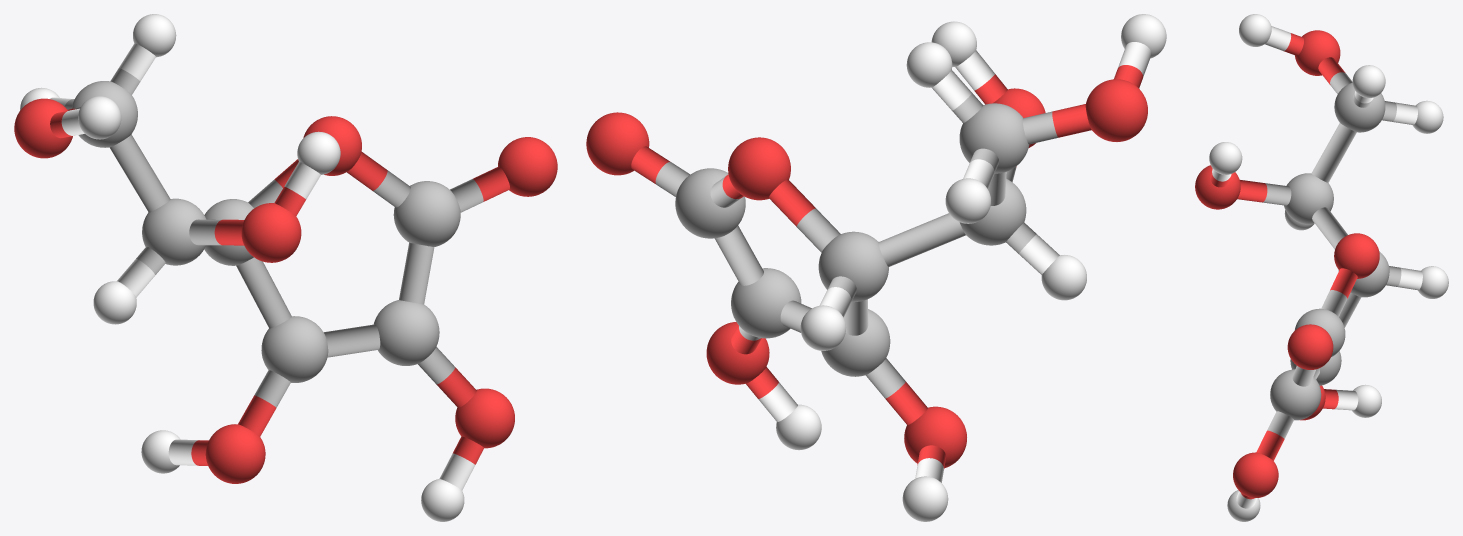
The model's file is vitamin_c.glb.
3 views of the same model, side by side, from view 1: azimuth 30°, elevation 25°; view 2: azimuth 150°, elevation 25°; view 3: azimuth 270°, elevation 25° (orthographic). The views are drawn at different scales.
Parts seen in each view (by area): view 1: Object_3, Object_4, Object_6, Object_5, Object_7; view 2: Object_3, Object_4, Object_6, Object_5, Object_7; view 3: Object_3, Object_4, Object_6, Object_5, Object_7.
Part boxes in pixels (box(x1,y1,x2,y2)): Object_3: box(64, 68, 483, 407); Object_4: box(14, 98, 557, 483); Object_6: box(20, 14, 464, 521); Object_5: box(50, 108, 509, 465); Object_7: box(50, 43, 475, 490); Object_3: box(655, 93, 1058, 398); Object_4: box(586, 79, 1147, 468); Object_6: box(776, 14, 1166, 521); Object_5: box(631, 65, 1143, 468); Object_7: box(758, 42, 1151, 482); Object_3: box(1262, 72, 1401, 438); Object_4: box(1195, 30, 1379, 497); Object_6: box(1209, 14, 1448, 521); Object_5: box(1210, 33, 1357, 499); Object_7: box(1212, 26, 1422, 508).
Bounding box in the file's own units: 7.15 × 6.41 × 3.88.
